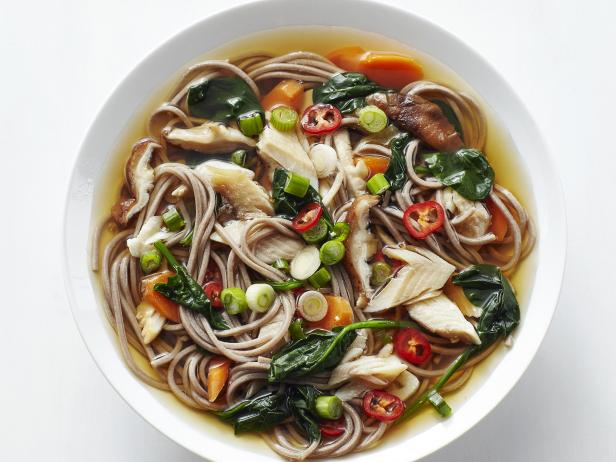Soba: (102, 47, 541, 462)
